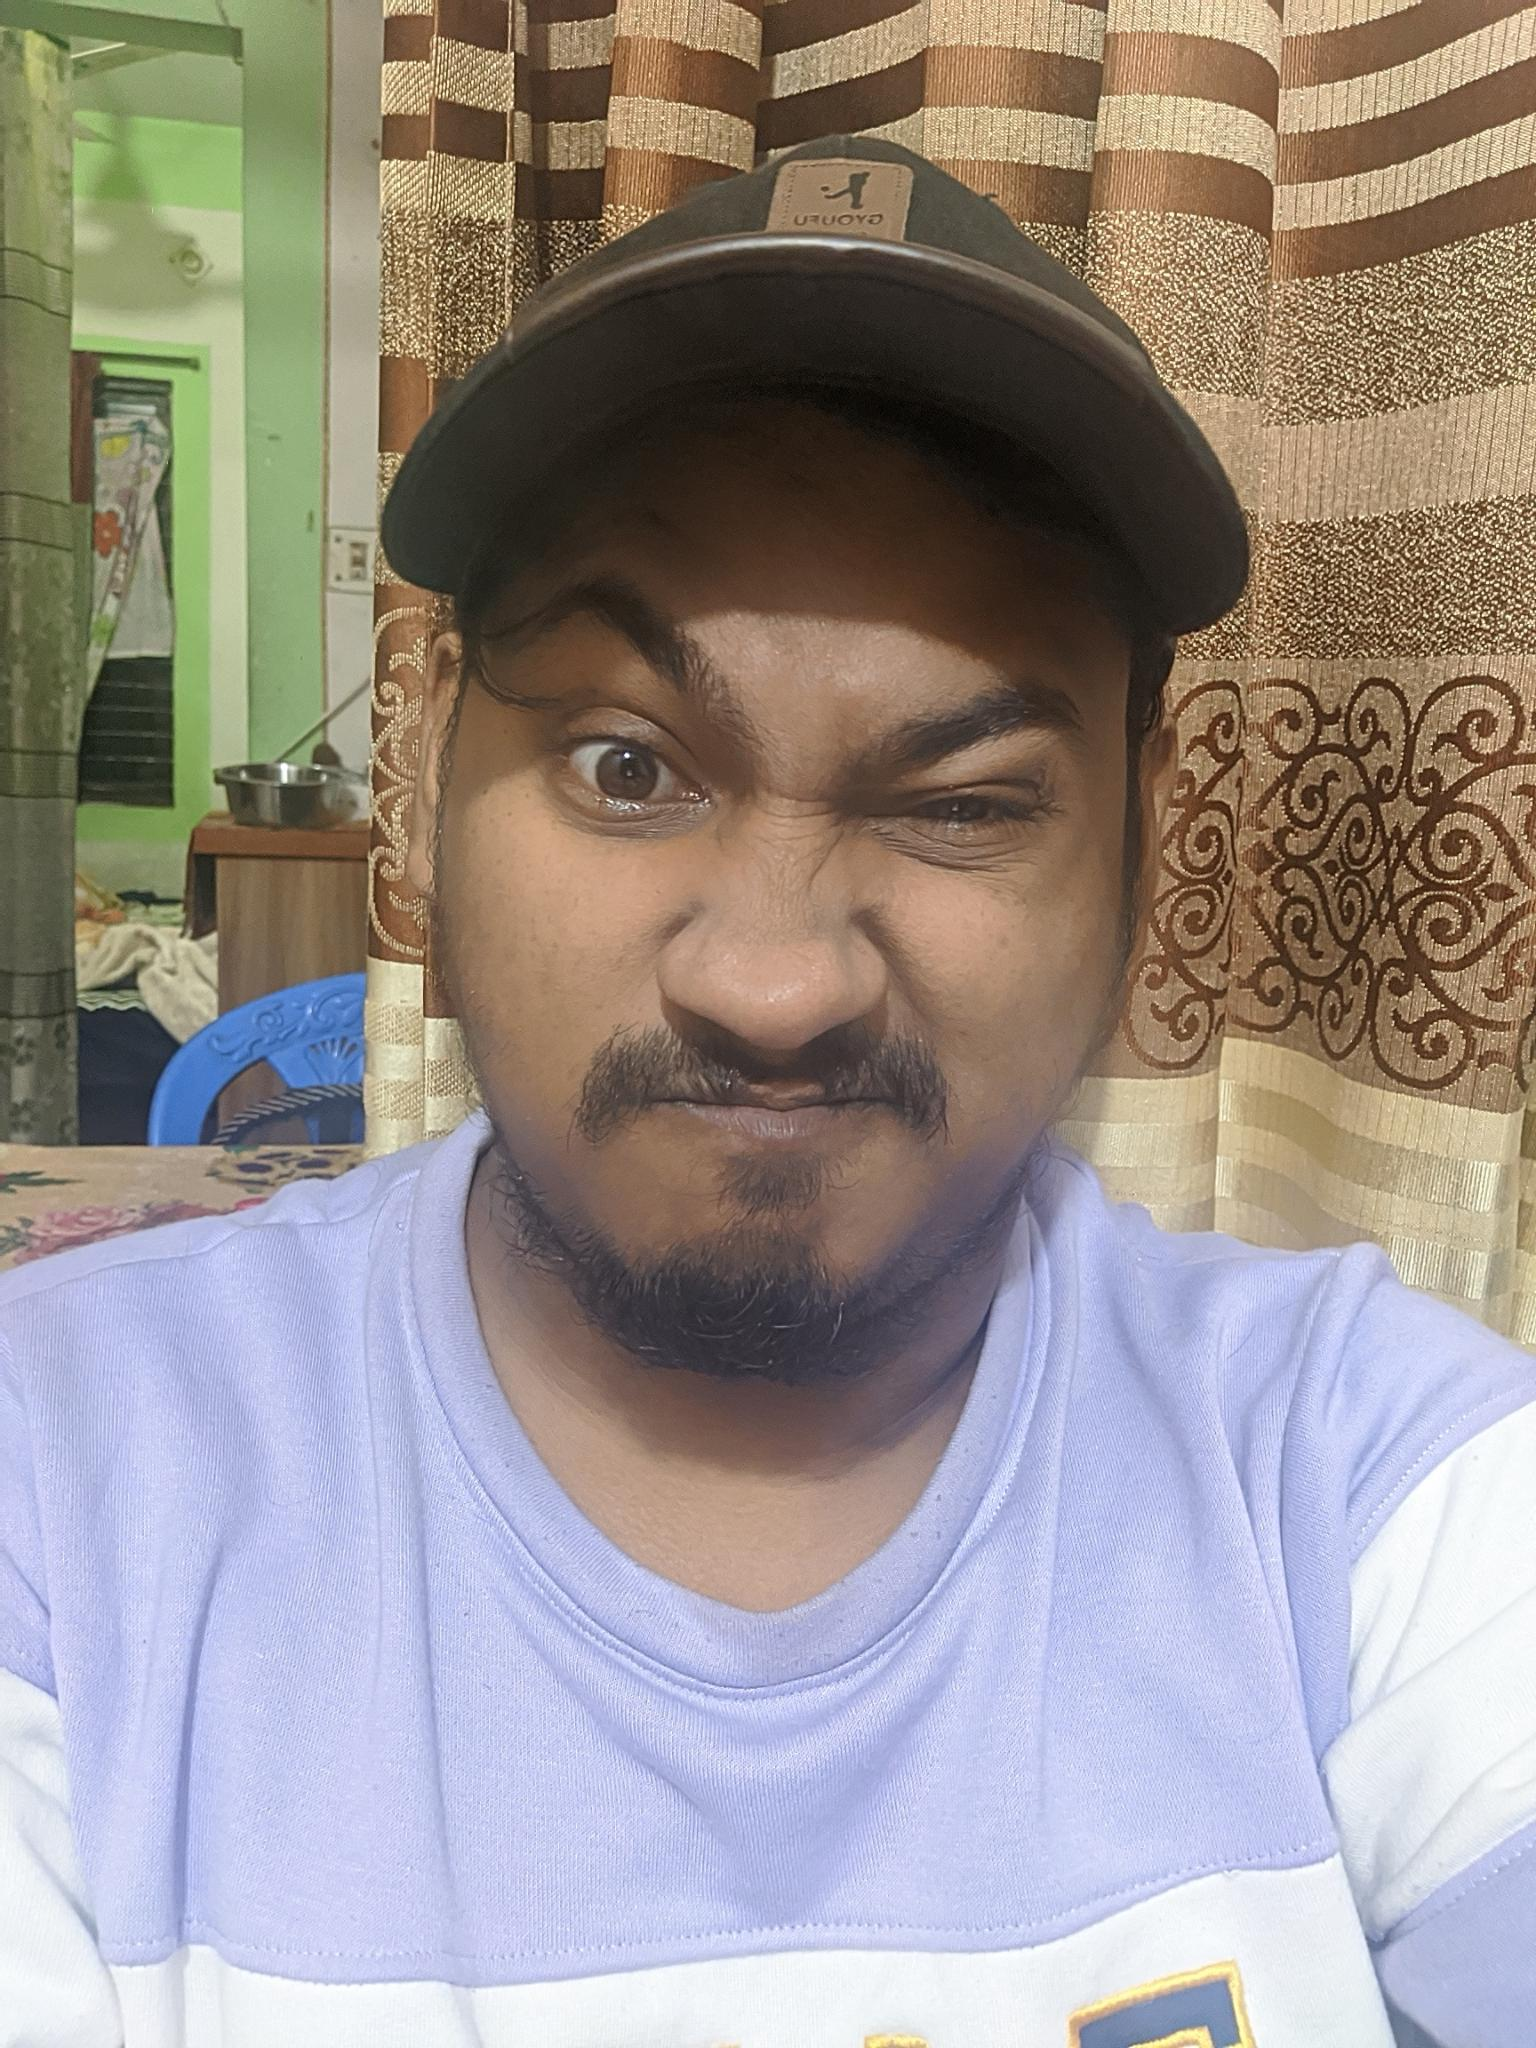Angry: (478, 543, 1113, 1308)
